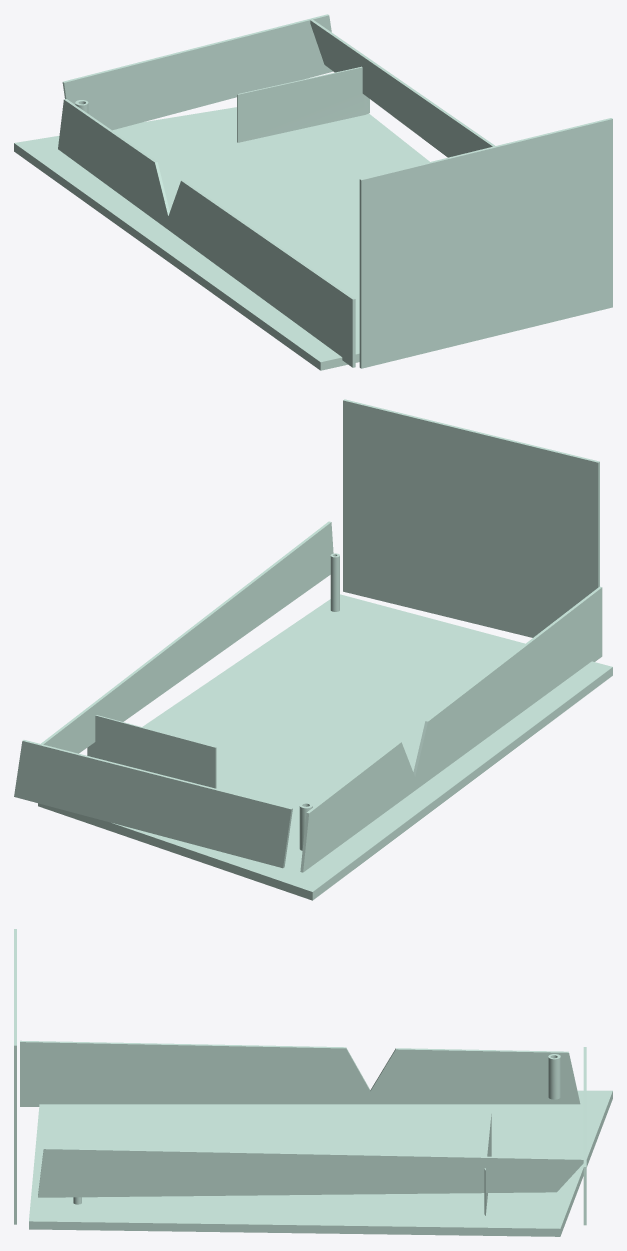
The picture shows the model from 3 angles, top to bottom: view 1: azimuth 30°, elevation 25°; view 2: azimuth 150°, elevation 25°; view 3: azimuth 270°, elevation 25°; orthographic projection. The views are drawn at different scales.
Parts seen in each view (by area): view 1: Renderer Node; view 2: Renderer Node; view 3: Renderer Node.
Boxes of the visible parts, <box> form: Renderer Node: <box>14,14,612,370</box>; Renderer Node: <box>14,399,612,900</box>; Renderer Node: <box>14,929,612,1236</box>.
Size of the model in its own units: 0.8897 by 0.5357 by 1.58.
